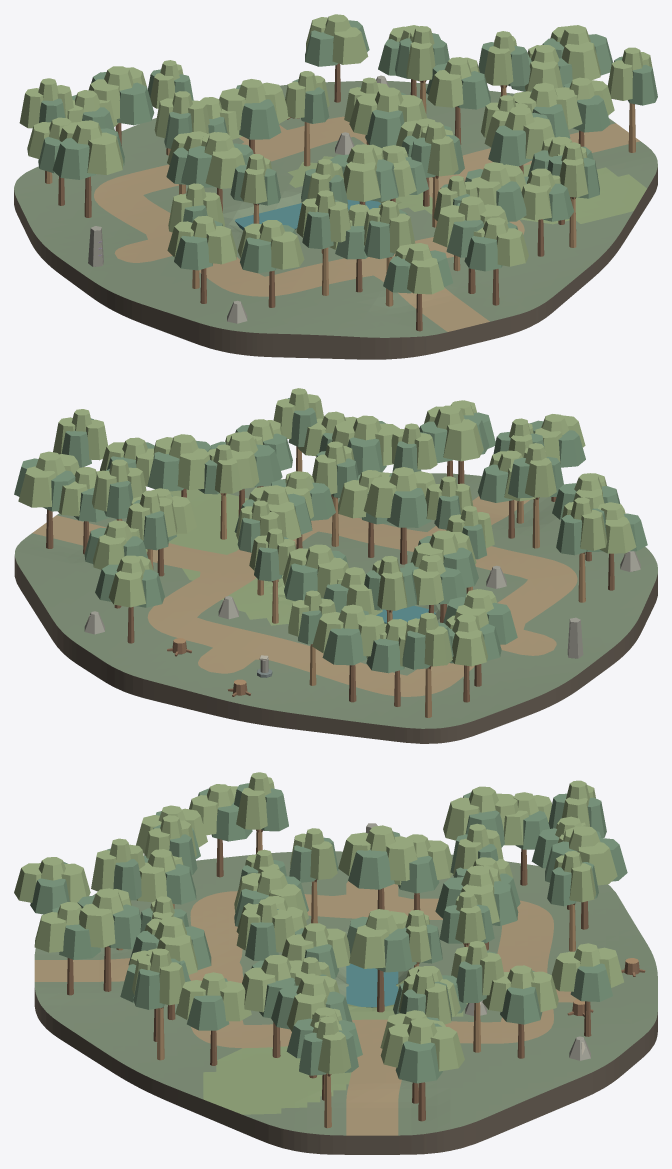
The model's file is tv_48_01_broadleaf_forest.glb.
The picture shows the model from 3 angles, top to bottom: view 1: azimuth 30°, elevation 25°; view 2: azimuth 150°, elevation 25°; view 3: azimuth 270°, elevation 25°; orthographic projection. The views are drawn at different scales.
Parts seen in each view (by area): view 1: tv_48_01_broadleaf_forest_continuous_ground, landscape_oak_0009, landscape_oak_0007, landscape_oak_0028, landscape_oak_0038, landscape_oak_0046, landscape_oak_0012, landscape_oak_0021, landscape_oak_0043, landscape_oak_0048, landscape_oak_0017, landscape_oak_0030 (+37 smaller); view 2: tv_48_01_broadleaf_forest_continuous_ground, landscape_oak_0020, landscape_oak_0027, landscape_oak_0043, landscape_oak_0057, landscape_oak_0052, landscape_oak_0031, landscape_oak_0028, landscape_birch_0011, landscape_birch_0014, landscape_birch_0008, landscape_oak_0035 (+36 smaller); view 3: tv_48_01_broadleaf_forest_continuous_ground, landscape_oak_0057, landscape_oak_0017, landscape_oak_0038, landscape_oak_0043, landscape_oak_0045, landscape_oak_0050, landscape_oak_0031, landscape_oak_0021, landscape_birch_0056, landscape_birch_0044, landscape_oak_0020 (+37 smaller).
Boxes of the visible parts, x1,y1,x2,y2 form: tv_48_01_broadleaf_forest_continuous_ground: (14, 81, 657, 359); landscape_oak_0009: (52, 120, 124, 217); landscape_oak_0007: (167, 215, 237, 303); landscape_oak_0028: (219, 79, 289, 153); landscape_oak_0038: (349, 87, 426, 147); landscape_oak_0046: (484, 106, 554, 173); landscape_oak_0012: (237, 220, 304, 307); landscape_oak_0021: (383, 243, 453, 331); landscape_oak_0043: (305, 14, 369, 102); landscape_oak_0048: (426, 57, 490, 144); landscape_oak_0017: (181, 132, 253, 212); landscape_oak_0030: (464, 217, 528, 305); tv_48_01_broadleaf_forest_continuous_ground: (14, 473, 657, 743); landscape_oak_0020: (312, 604, 385, 702); landscape_oak_0027: (363, 467, 435, 564); landscape_oak_0043: (95, 555, 164, 643); landscape_oak_0057: (14, 451, 79, 548); landscape_oak_0052: (147, 434, 211, 497); landscape_oak_0031: (419, 405, 489, 476); landscape_oak_0028: (282, 544, 348, 601); landscape_birch_0011: (402, 612, 453, 717); landscape_birch_0014: (508, 443, 563, 548); landscape_birch_0008: (556, 497, 607, 602); landscape_oak_0035: (332, 415, 399, 474); tv_48_01_broadleaf_forest_continuous_ground: (34, 851, 657, 1154); landscape_oak_0057: (380, 1018, 464, 1121); landscape_oak_0017: (338, 825, 417, 909); landscape_oak_0038: (347, 909, 416, 1012); landscape_oak_0043: (552, 943, 623, 1036); landscape_oak_0045: (175, 972, 251, 1065); landscape_oak_0050: (482, 965, 558, 1058); landscape_oak_0031: (77, 888, 141, 991); landscape_oak_0021: (14, 857, 90, 914); landscape_birch_0056: (299, 1016, 358, 1128); landscape_birch_0044: (132, 948, 184, 1060); landscape_oak_0020: (545, 826, 627, 929).
Bounding box in the file's own units: 52.65 × 11.11 × 49.58.
